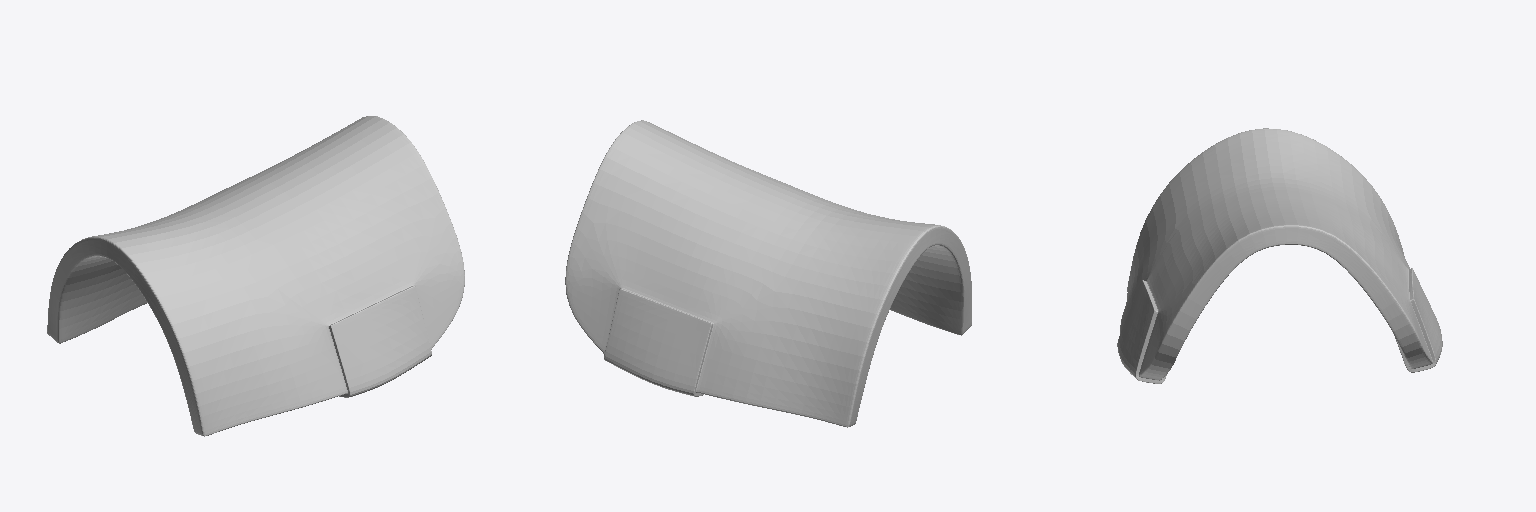
File: cavalier_saddle.obj
The picture shows the model from 3 angles: view 1: azimuth 30°, elevation 25°; view 2: azimuth 150°, elevation 25°; view 3: azimuth 270°, elevation 25°; orthographic projection.
Parts seen in each view (by area): view 1: 15548_French_Horseman_v1; view 2: 15548_French_Horseman_v1; view 3: 15548_French_Horseman_v1.
Boxes of the visible parts, <box> form: 15548_French_Horseman_v1: <box>47,116,464,436</box>; 15548_French_Horseman_v1: <box>565,120,971,427</box>; 15548_French_Horseman_v1: <box>1117,128,1442,383</box>.
Size of the model in its own units: 3.7 by 2.26 by 3.42.